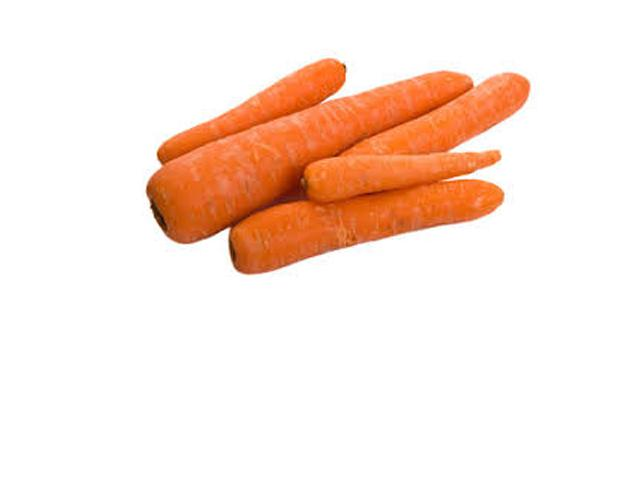carrot: (215, 192, 515, 262)
